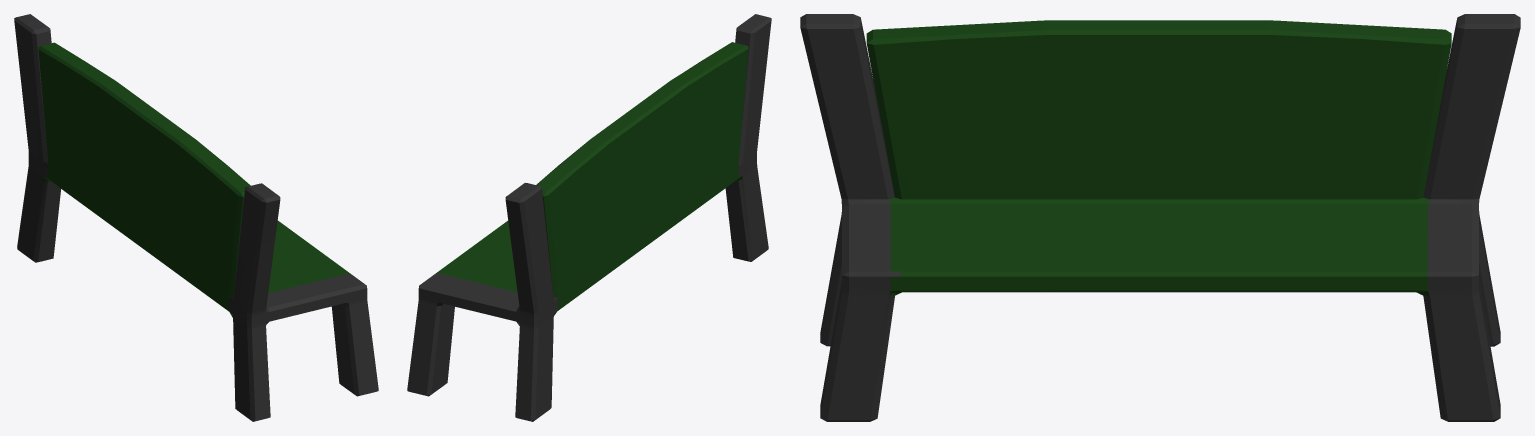
File: Bench_Long.fbx
The picture shows the model from 3 angles, left to right: view 1: azimuth 30°, elevation 25°; view 2: azimuth 150°, elevation 25°; view 3: azimuth 270°, elevation 25°; orthographic projection. The views are drawn at different scales.
Parts seen in each view (by area): view 1: pCube1; view 2: pCube1; view 3: pCube1.
Part boxes in pixels (x1=…): pCube1: x1=14, y1=14, x2=378, y2=421; pCube1: x1=407, y1=14, x2=771, y2=421; pCube1: x1=800, y1=14, x2=1520, y2=421.
Size of the model in its own units: 3.06 by 5.18 by 10.42.
